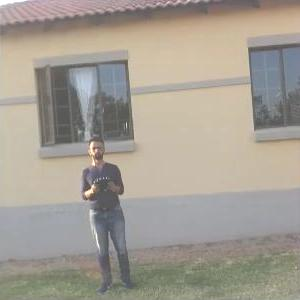follow: (83, 133, 141, 295)
